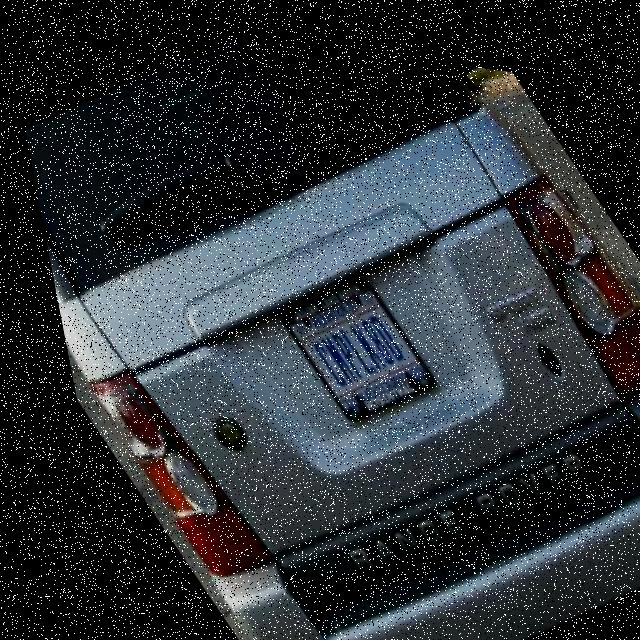license_plate: (258, 256, 433, 425)
